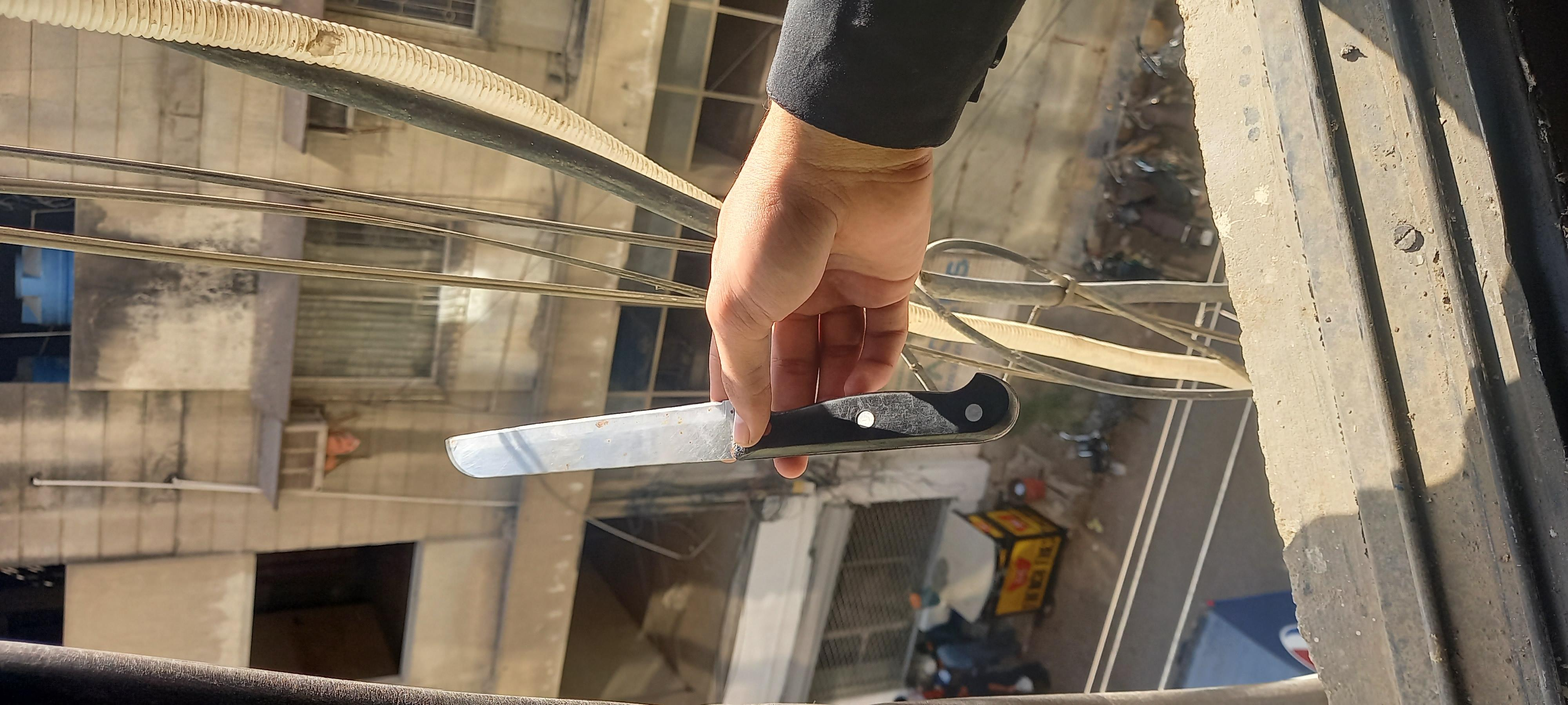knives: (466, 193, 807, 462)
